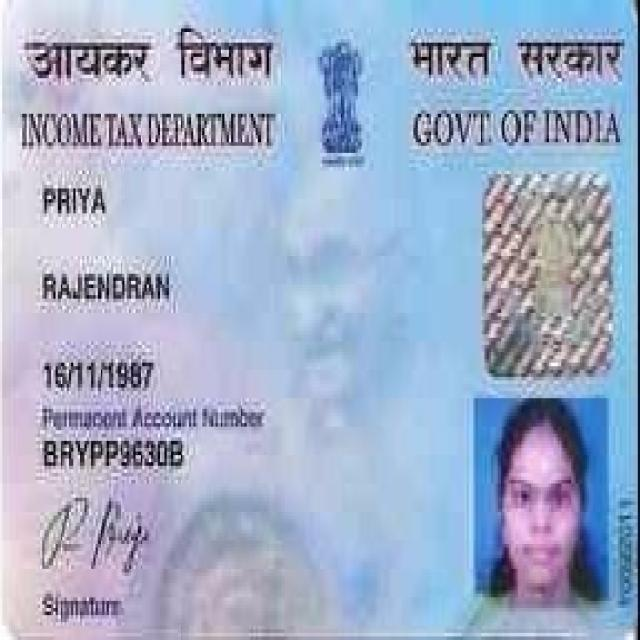pan_card: (0, 4, 635, 633)
